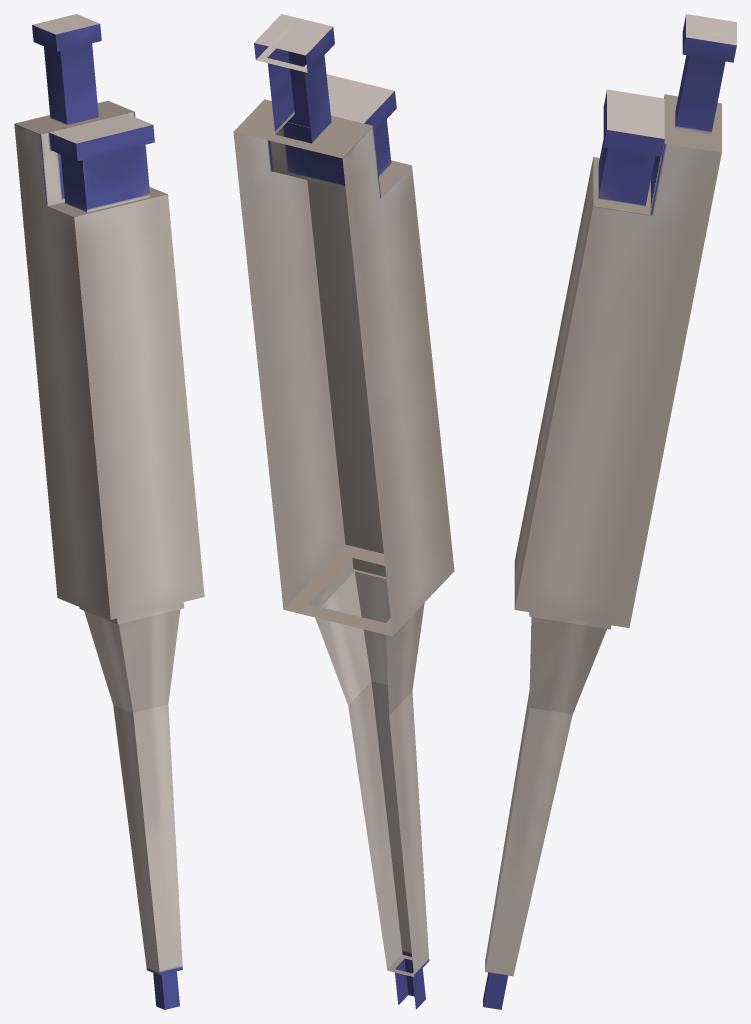
Rendered from SM_MICROPIPETTE_blue.FBX.
The picture shows the model from 3 angles, left to right: view 1: azimuth 30°, elevation 25°; view 2: azimuth 150°, elevation 25°; view 3: azimuth 270°, elevation 25°; orthographic projection. The views are drawn at different scales.
Parts seen in each view (by area): view 1: MICROPIPETTE_blue; view 2: MICROPIPETTE_blue; view 3: MICROPIPETTE_blue.
Part boxes in pixels (box(x1,y1,x2,y2)): MICROPIPETTE_blue: box(14, 14, 204, 1009); MICROPIPETTE_blue: box(233, 14, 454, 1009); MICROPIPETTE_blue: box(483, 14, 736, 1009).
Bounding box in the file's own units: 13.84 × 129 × 30.17.
1 material, 1 textured.
